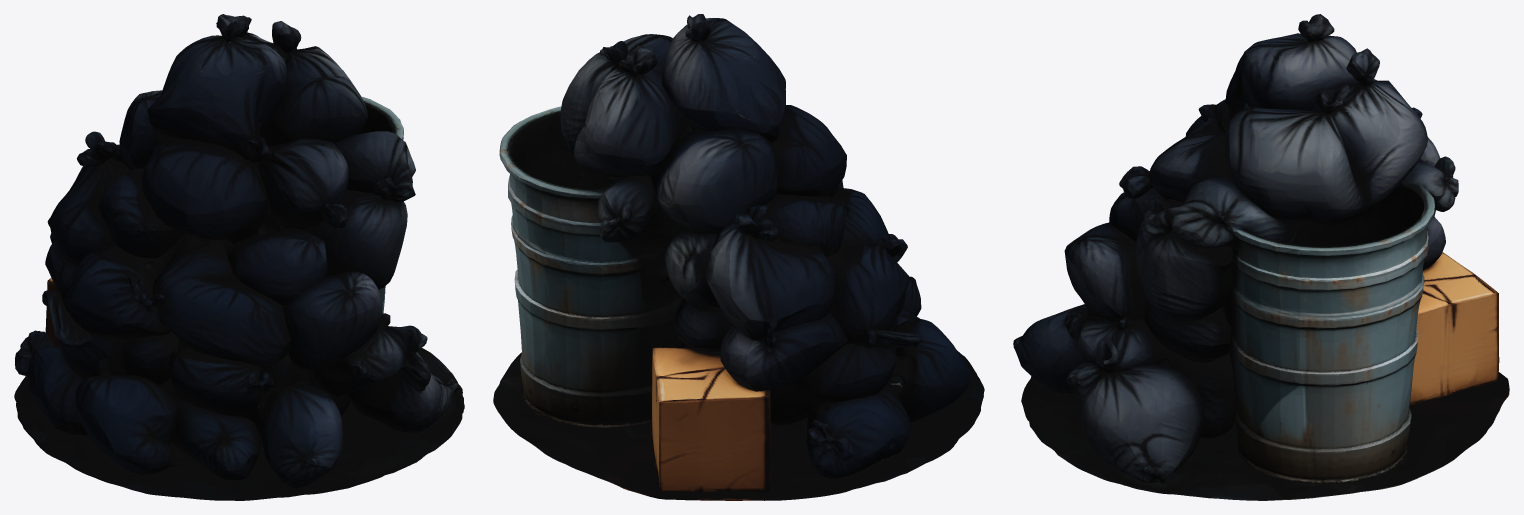
Rendered from trash_pile.glb.
3 views of the same model, side by side, from view 1: azimuth 30°, elevation 25°; view 2: azimuth 150°, elevation 25°; view 3: azimuth 270°, elevation 25° (orthographic). The views are drawn at different scales.
Parts seen in each view (by area): view 1: world; view 2: world; view 3: world.
Part boxes in pixels (<box>): world: <box>14,14,464,500</box>; world: <box>493,14,984,500</box>; world: <box>1013,14,1509,500</box>.
Size of the model in its own units: 0.9611 by 0.8759 by 0.9982.
Materials: 1 (1 with a texture image).
